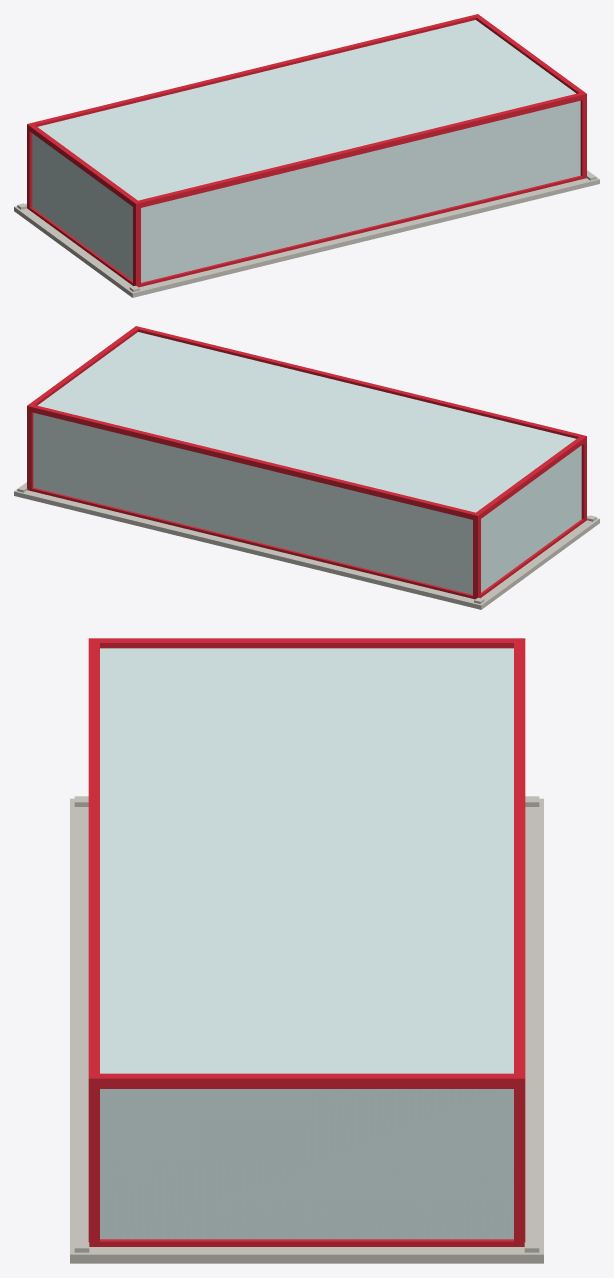
The model's file is mercedes-benz-petronas-f1.glb.
3 views of the same model, one above another, from view 1: azimuth 30°, elevation 25°; view 2: azimuth 150°, elevation 25°; view 3: azimuth 270°, elevation 25° (orthographic). The views are drawn at different scales.
Size of the model in its own units: 0.66 by 0.1195 by 0.29.
